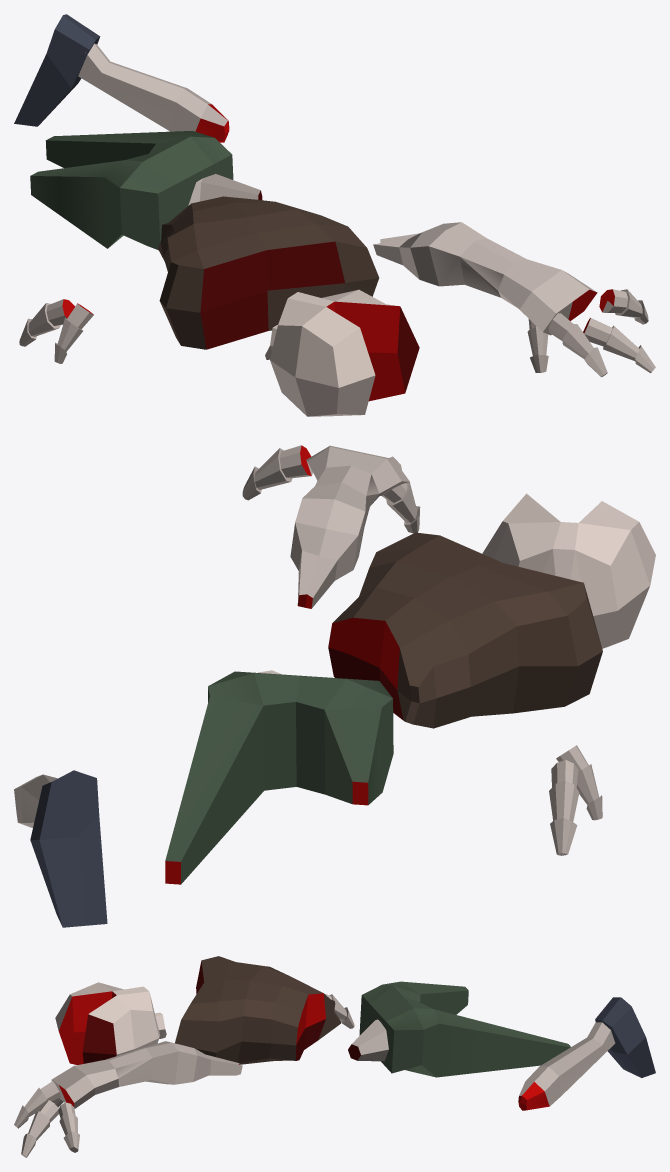
Rendered from deadguy03.fbx.
3 renders of one model, top to bottom at view 1: azimuth 30°, elevation 25°; view 2: azimuth 150°, elevation 25°; view 3: azimuth 270°, elevation 25°, orthographic. The views are drawn at different scales.
Visible parts, largest first — view 1: polySurface91; view 2: polySurface91; view 3: polySurface91.
Boxes of the visible parts, <box> form: polySurface91: <box>14,14,655,416</box>; polySurface91: <box>14,445,655,927</box>; polySurface91: <box>14,956,655,1157</box>.
Size of the model in its own units: 132 by 41.78 by 218.
